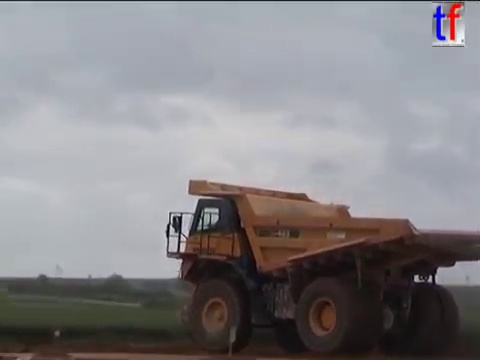truck: (161, 175, 480, 360)
